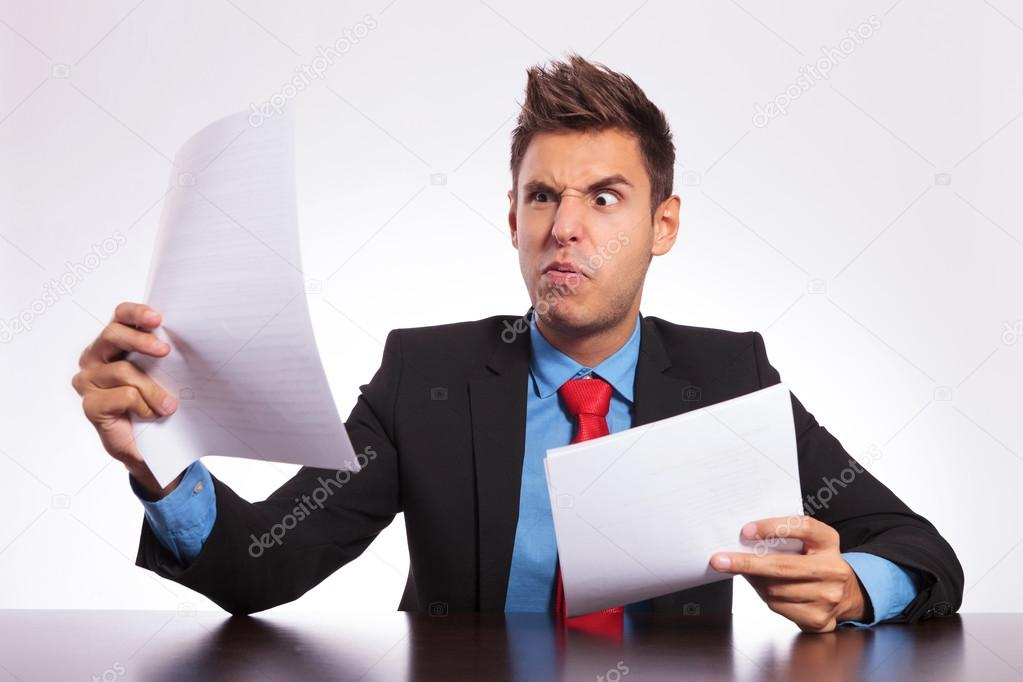confused: (505, 128, 671, 337)
